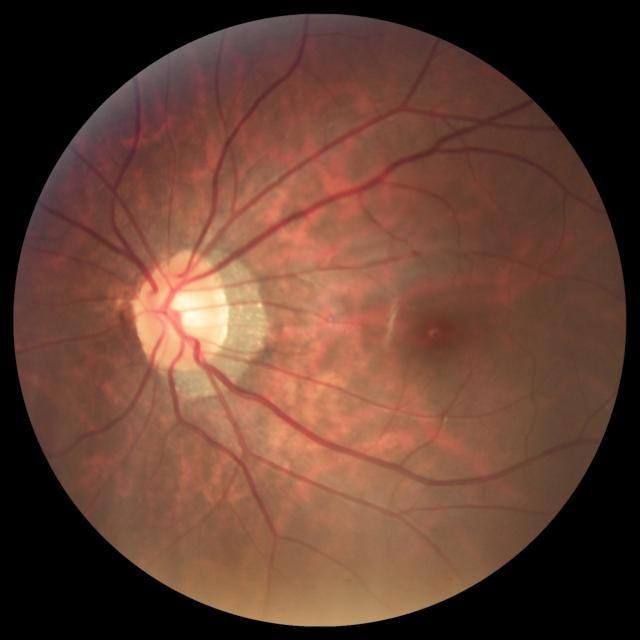OC: (162, 288, 206, 332)
OD: (134, 252, 232, 372)
